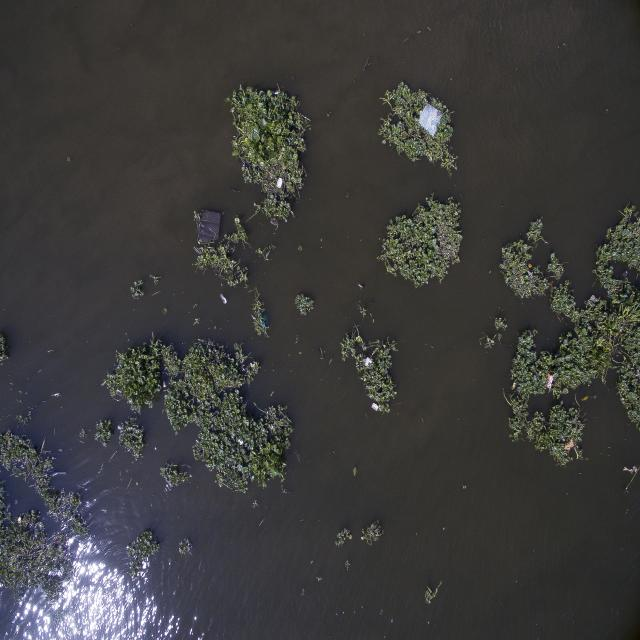plastic: (182, 204, 230, 277), (407, 91, 452, 153), (536, 366, 564, 399), (361, 350, 380, 380), (270, 171, 288, 196), (370, 397, 384, 417)
